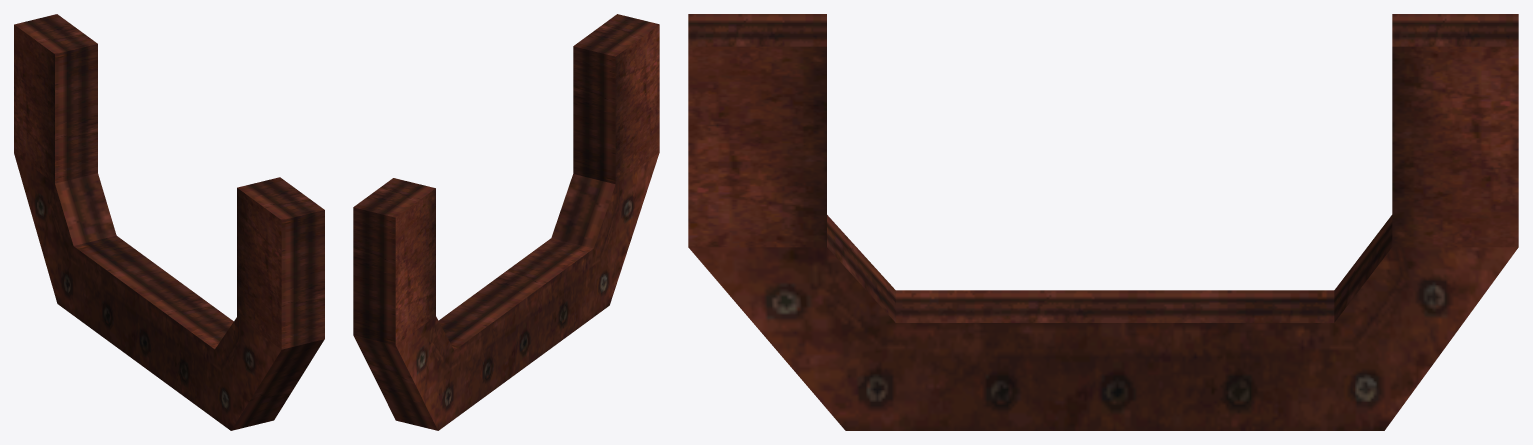
The model's file is multi_cable_hanging_holder.dae.
3 views of the same model, side by side, from view 1: azimuth 30°, elevation 25°; view 2: azimuth 150°, elevation 25°; view 3: azimuth 270°, elevation 25° (orthographic). The views are drawn at different scales.
Visible parts, largest first — view 1: pCube1; view 2: pCube1; view 3: pCube1.
Boxes of the visible parts, box(x1,y1,x2,y2) form: pCube1: box(14, 14, 324, 430); pCube1: box(353, 14, 659, 430); pCube1: box(688, 14, 1518, 430).
Bounding box in the file's own units: 0.0923 × 0.5077 × 0.9942.
